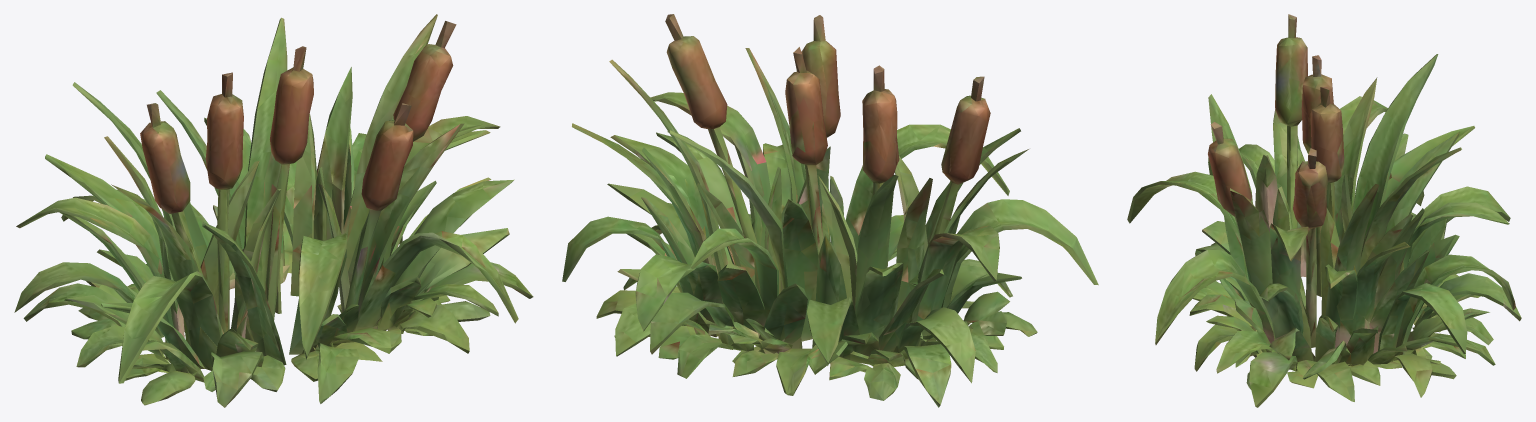
File: juncos.glb
3 views of the same model, side by side, from view 1: azimuth 30°, elevation 25°; view 2: azimuth 150°, elevation 25°; view 3: azimuth 270°, elevation 25° (orthographic). The views are drawn at different scales.
Visible parts, largest first — view 1: juncos_malla; view 2: juncos_malla; view 3: juncos_malla.
Boxes of the visible parts, x1,y1,x2,y2 form: juncos_malla: (14,14,533,407); juncos_malla: (562,14,1098,407); juncos_malla: (1127,14,1521,407).
Size of the model in its own units: 0.408 by 0.2507 by 0.358.
1 material, 1 textured.
